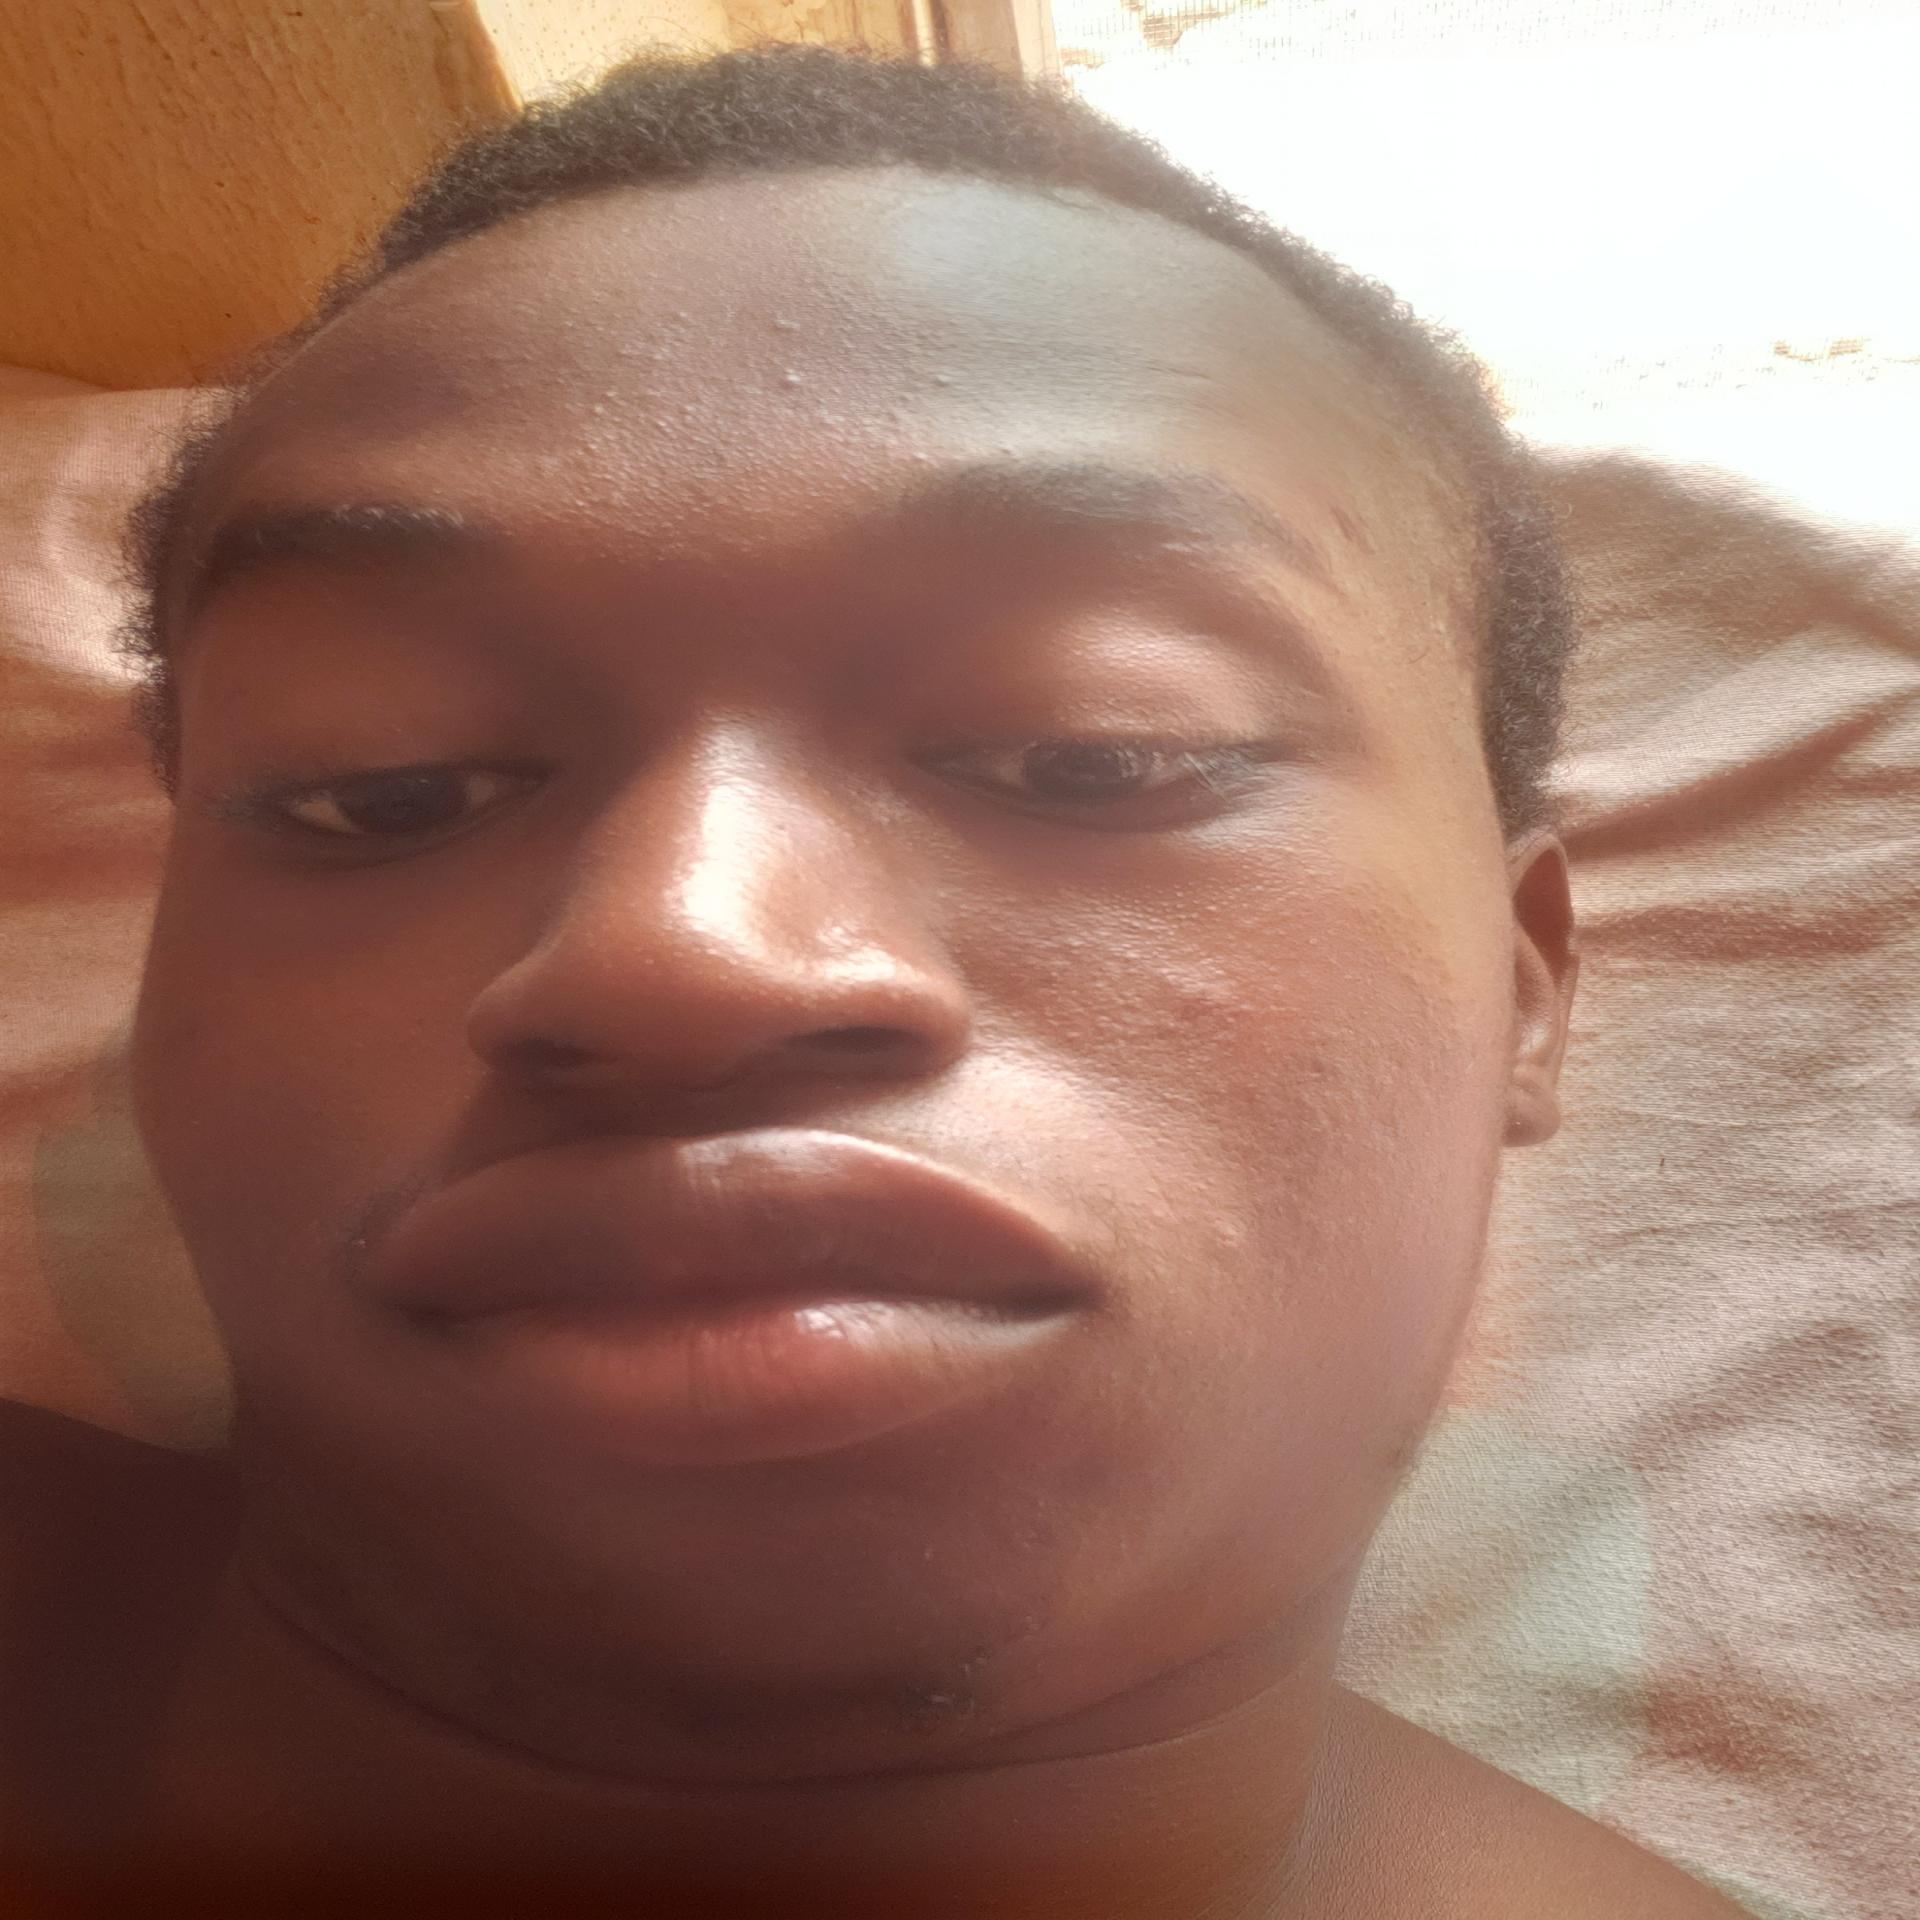Acne: (1062, 925, 1148, 965), (1180, 978, 1234, 1023), (552, 485, 636, 510), (1211, 1213, 1247, 1261), (760, 309, 807, 339), (666, 392, 700, 433), (907, 1535, 942, 1567), (587, 382, 624, 411), (772, 364, 811, 392), (925, 371, 956, 396), (900, 445, 930, 469), (670, 306, 693, 327), (577, 443, 605, 455)
Wrinkles: (1065, 1087, 1189, 1231)
